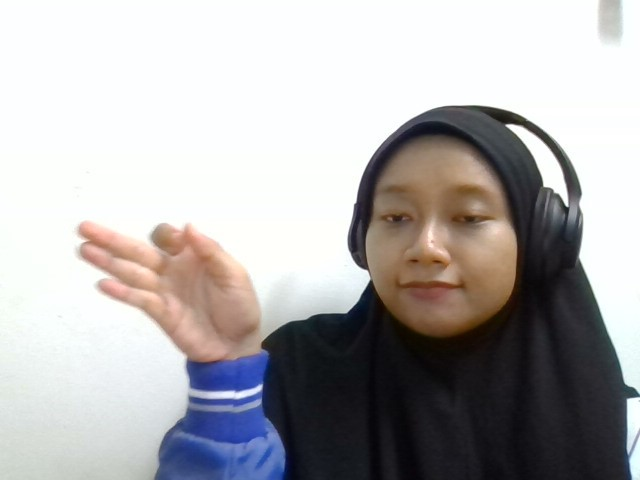Angsa: (76, 218, 263, 364)
